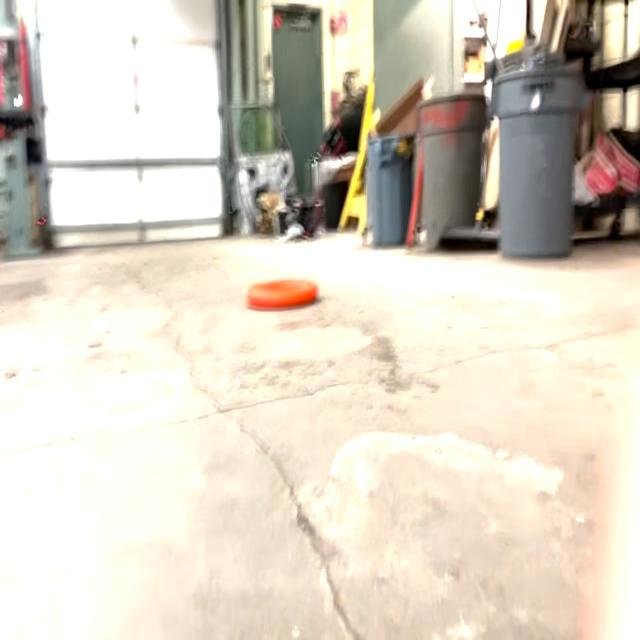note: (245, 273, 320, 311)
